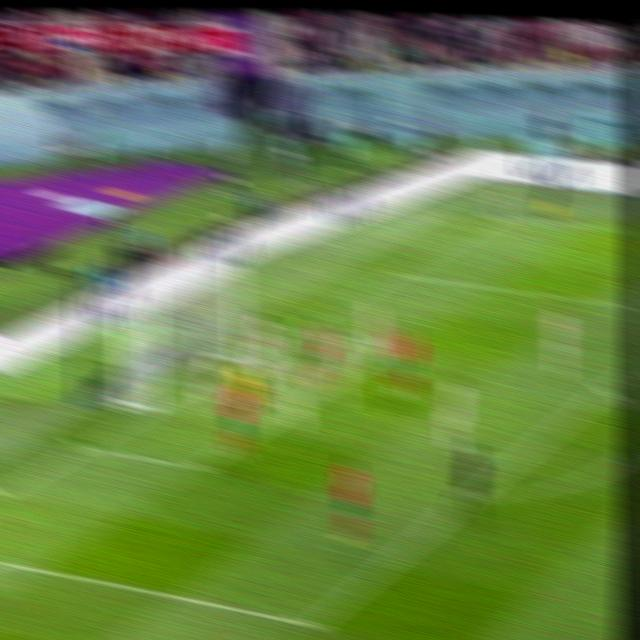bigarea_bottom_inner: (291, 604, 329, 640)
bigarea_top_outter: (380, 260, 409, 285)
corner: (483, 206, 516, 227)
smallarea_bottom_inner: (179, 448, 213, 485)
smallarea_bottom_outter: (65, 431, 100, 461)
smallarea_top_outter: (279, 314, 308, 340)
top_arc_area_intersection: (591, 376, 620, 402)
